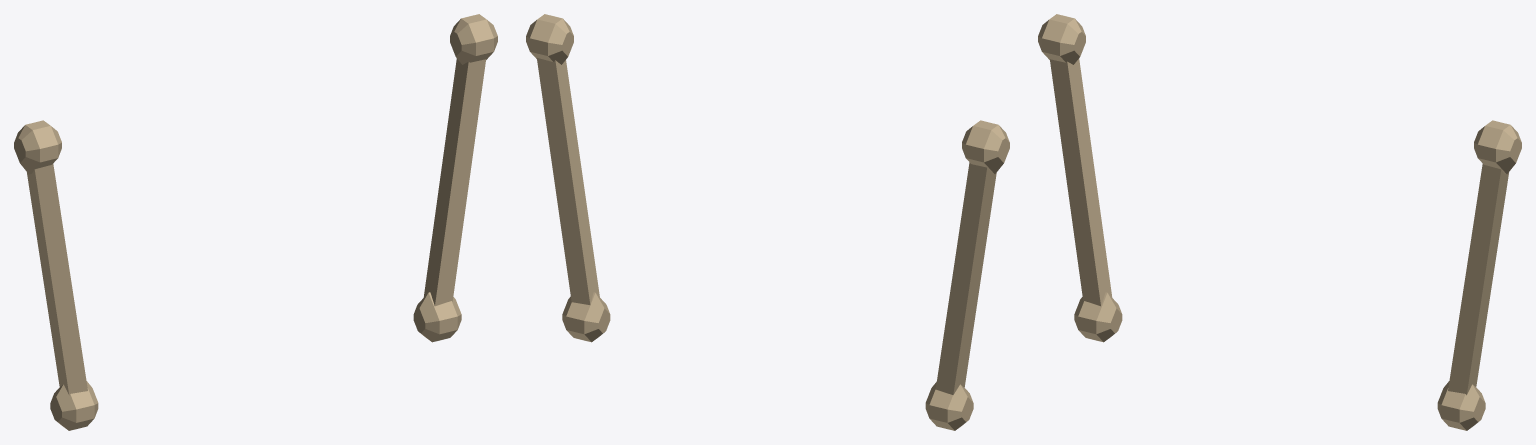
The model's file is Cliff_Prop_Bridge_Rope_Middle_Support.glb.
The picture shows the model from 3 angles, left to right: view 1: azimuth 30°, elevation 25°; view 2: azimuth 150°, elevation 25°; view 3: azimuth 330°, elevation 25°; orthographic projection.
Parts seen in each view (by area): view 1: Cliff_Prop_Bridge_Rope_Middle_Support; view 2: Cliff_Prop_Bridge_Rope_Middle_Support; view 3: Cliff_Prop_Bridge_Rope_Middle_Support.
Boxes of the visible parts, <box> form: Cliff_Prop_Bridge_Rope_Middle_Support: <box>14,14,497,430</box>; Cliff_Prop_Bridge_Rope_Middle_Support: <box>526,14,1009,430</box>; Cliff_Prop_Bridge_Rope_Middle_Support: <box>1038,14,1521,430</box>.
Bounding box in the file's own units: 1.3 × 0.8147 × 0.1061.
